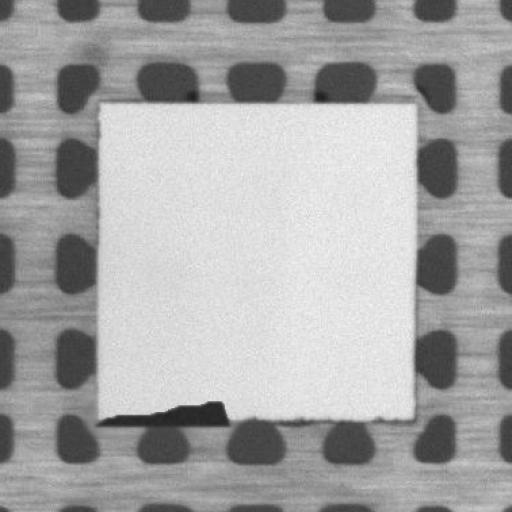DIE_BROKEN: (88, 396, 232, 428)
